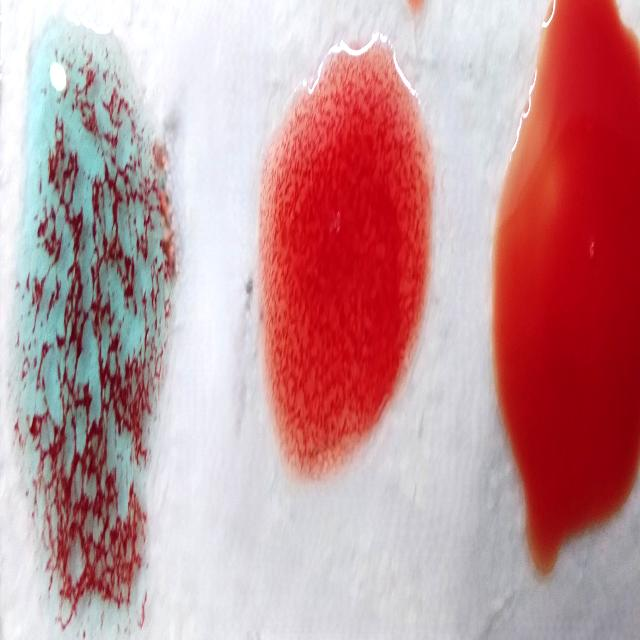A: (17, 27, 166, 640)
D: (261, 29, 433, 470)
